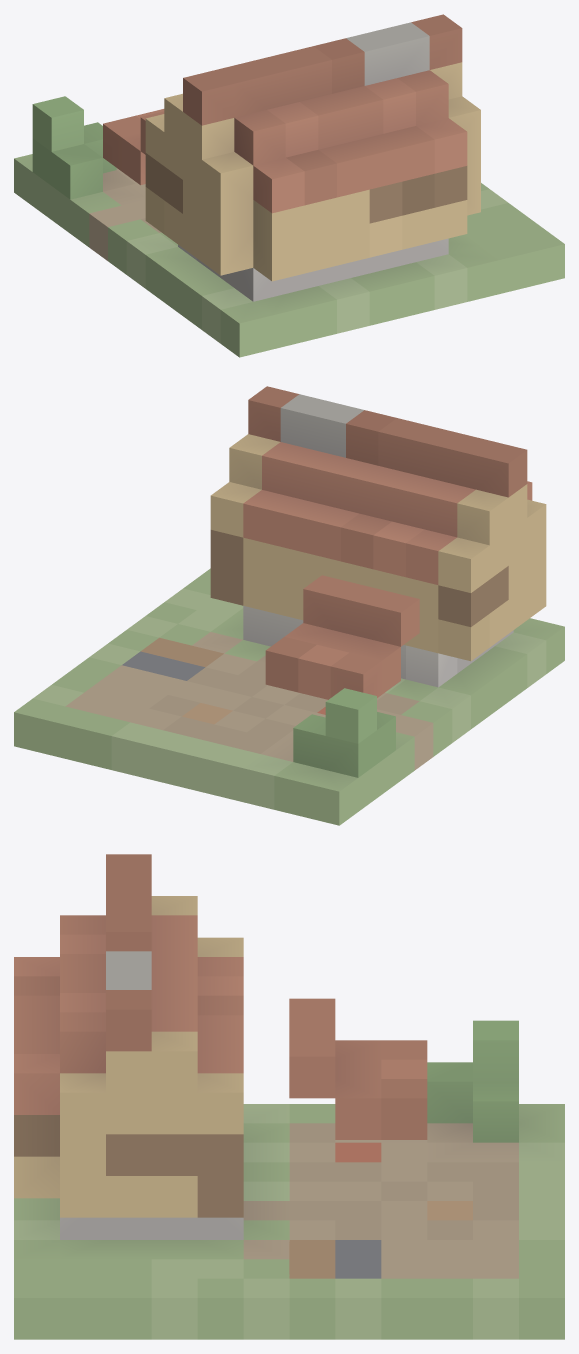
Rendered from cidery.lite.glb.
3 views of the same model, one above another, from view 1: azimuth 30°, elevation 25°; view 2: azimuth 150°, elevation 25°; view 3: azimuth 270°, elevation 25° (orthographic). The views are drawn at different scales.
Parts seen in each view (by area): view 1: cidery; view 2: cidery; view 3: cidery.
Part boxes in pixels (left/top/right/bottom): cidery: left=14, top=14, right=564, bottom=357; cidery: left=14, top=386, right=564, bottom=825; cidery: left=14, top=854, right=564, bottom=1339.
Size of the model in its own units: 5 by 3.5 by 6.
